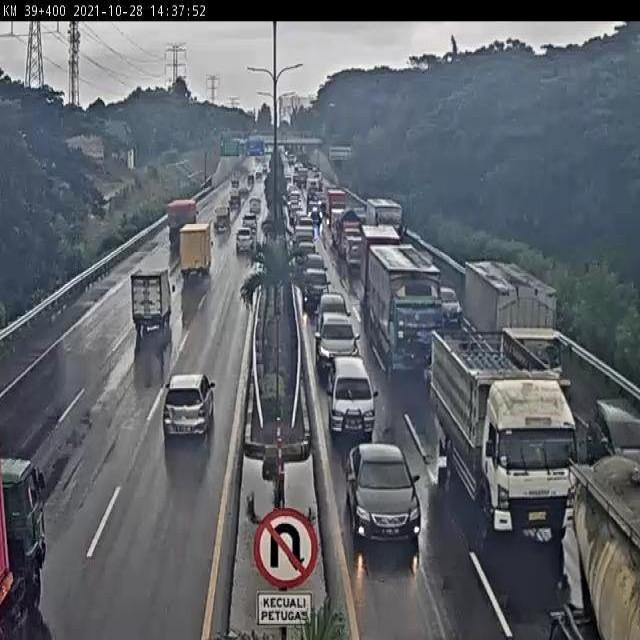truck-l-: (431, 327, 574, 533), (462, 257, 567, 403), (369, 244, 446, 380), (164, 199, 200, 240)
truck-m-: (126, 272, 174, 337)
truck-s-: (179, 224, 215, 277)
